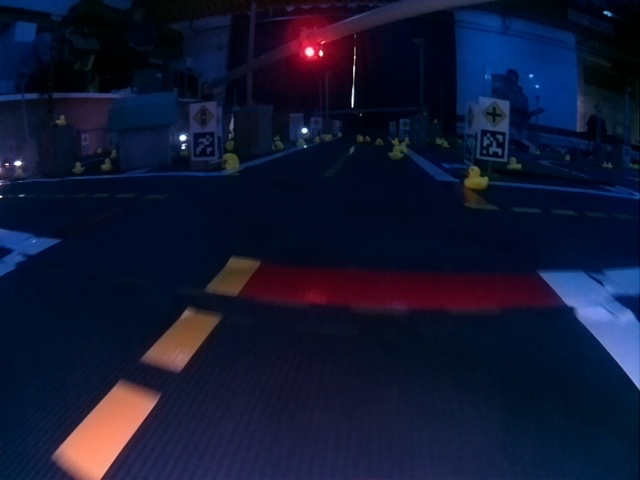Duckie: (464, 167, 488, 188), (221, 154, 238, 169), (510, 158, 520, 169), (72, 162, 83, 171), (389, 147, 401, 155), (102, 158, 112, 167), (375, 138, 384, 147)
Intersection sign: (481, 100, 504, 128)
QR code: (480, 129, 507, 160), (192, 134, 215, 159)
Signal sign: (192, 104, 215, 130)
Traffic light: (298, 27, 322, 60)
